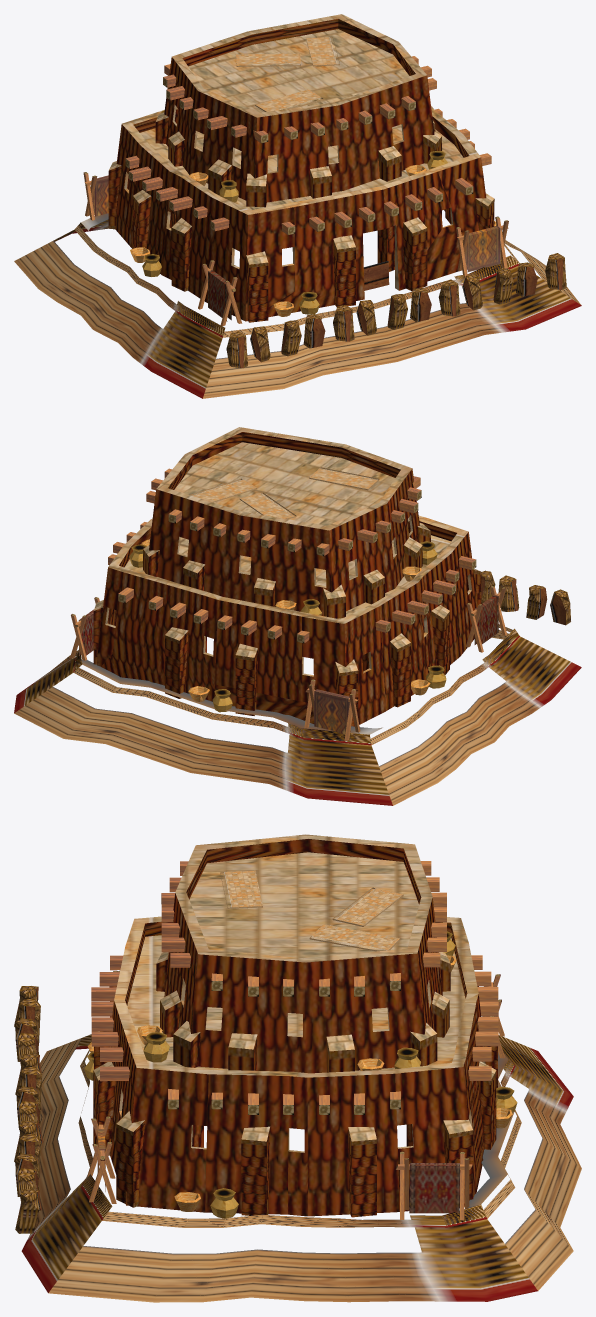
3 renders of one model, top to bottom at view 1: azimuth 30°, elevation 25°; view 2: azimuth 150°, elevation 25°; view 3: azimuth 270°, elevation 25°, orthographic. The views are drawn at different scales.
Visible parts, largest first — view 1: cc; view 2: cc; view 3: cc.
Boxes of the visible parts, x1,y1,x2,y2 form: cc: (14, 14, 581, 398); cc: (14, 427, 581, 805); cc: (14, 834, 581, 1302).
Size of the model in its own units: 29.01 by 26.93 by 14.5.
